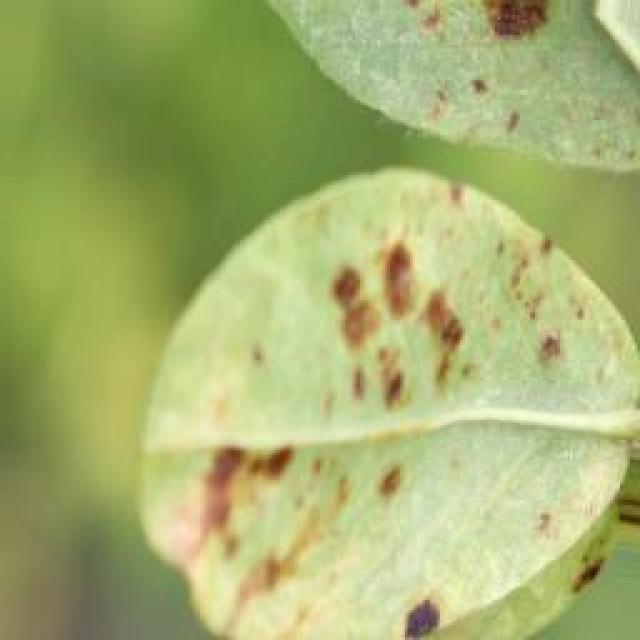Whitefly: (176, 0, 638, 616)
